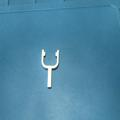u-shape: (40, 48, 60, 90)
